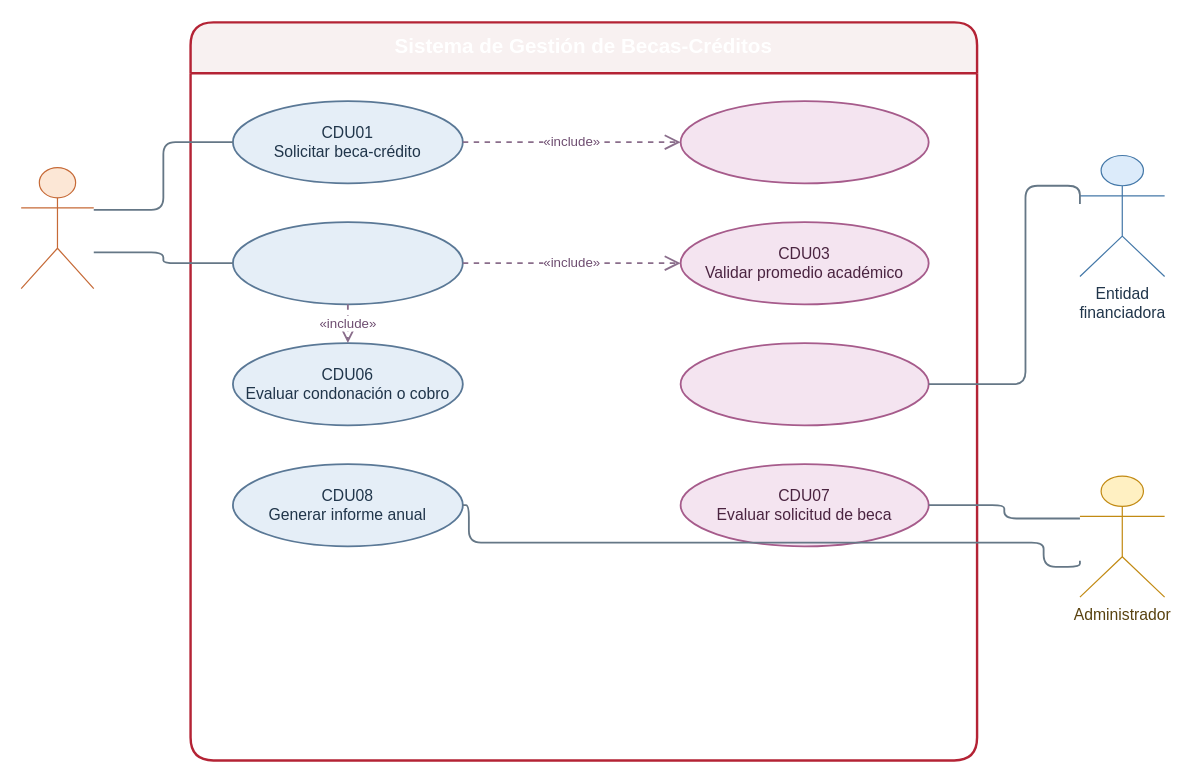
Image size: 1192x782. Some labels were removed from this diagram. Here are the shapes that lost their labels. From the top down, the centre of each, then its label:
point 804,142: CDU02 Verificar prestatario activo
point 57,227: Estudiante
point 347,263: CDU05 Registrar calificaciones
point 804,384: CDU04 Registrar aporte anual
